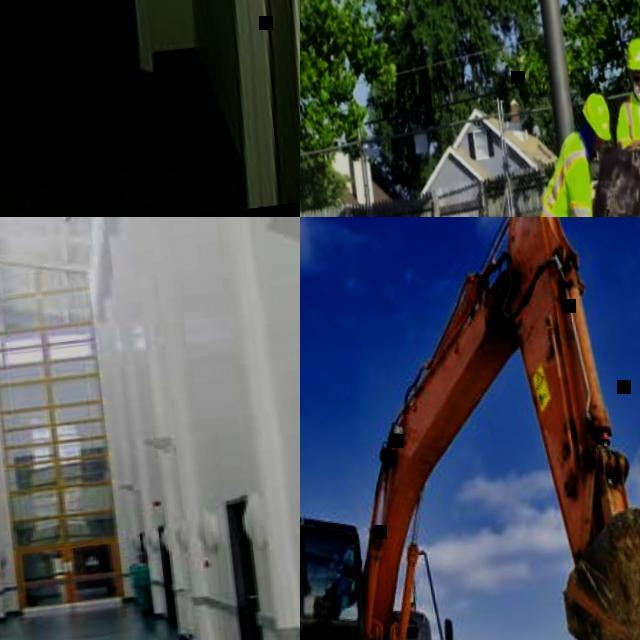helmet: (578, 92, 612, 144), (622, 37, 640, 73)
vest: (527, 132, 598, 217), (613, 90, 640, 151)
